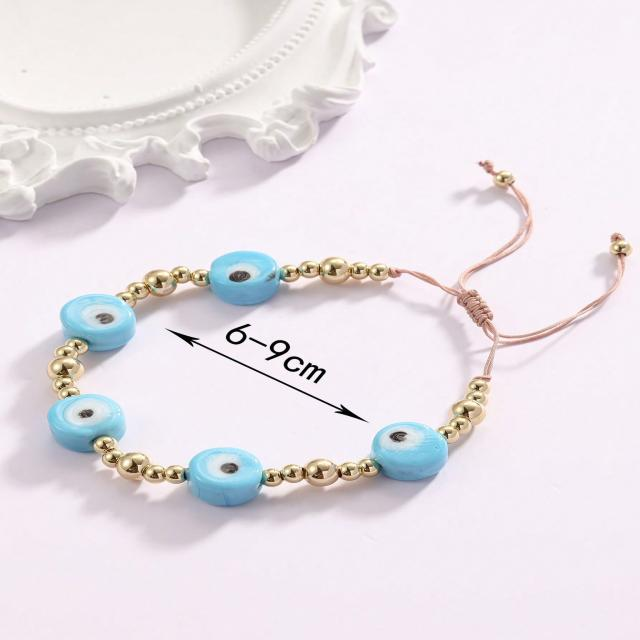bracelet: (6, 142, 640, 635)
